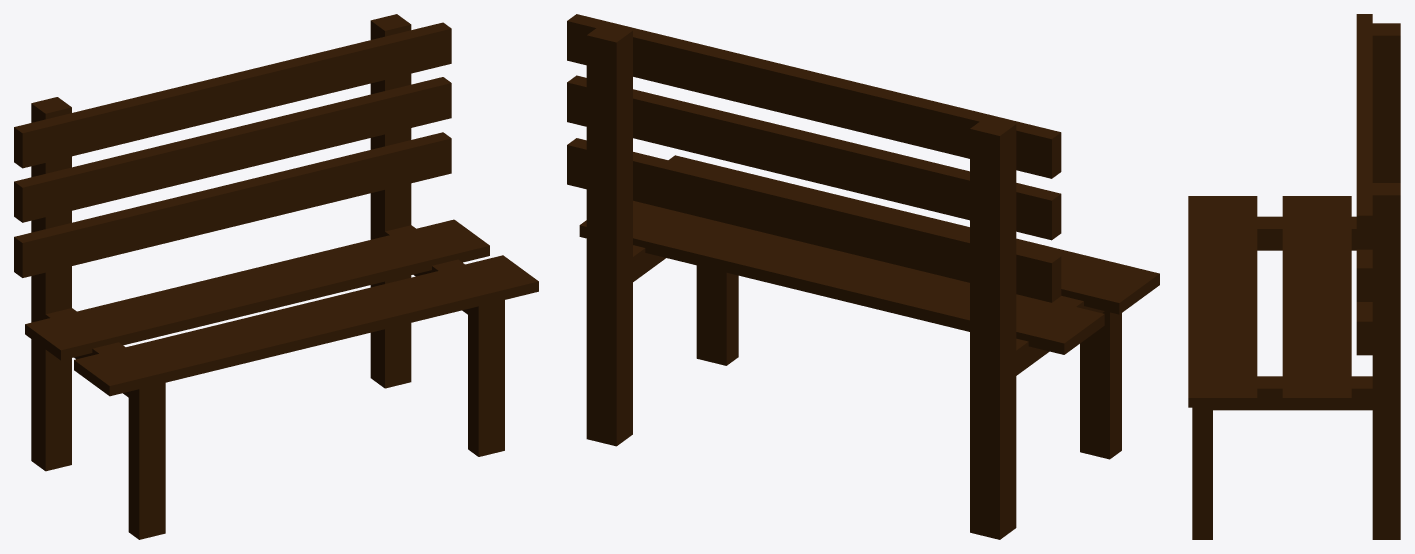
File: Bench.fbx
3 renders of one model, left to right at view 1: azimuth 30°, elevation 25°; view 2: azimuth 150°, elevation 25°; view 3: azimuth 270°, elevation 25°, orthographic. The views are drawn at different scales.
Parts seen in each view (by area): view 1: Cube.028; view 2: Cube.028; view 3: Cube.028.
Boxes of the visible parts, <box> form: Cube.028: <box>14,14,538,539</box>; Cube.028: <box>567,14,1159,539</box>; Cube.028: <box>1188,14,1400,539</box>.
Bounding box in the file's own units: 171 × 136 × 75.81.
